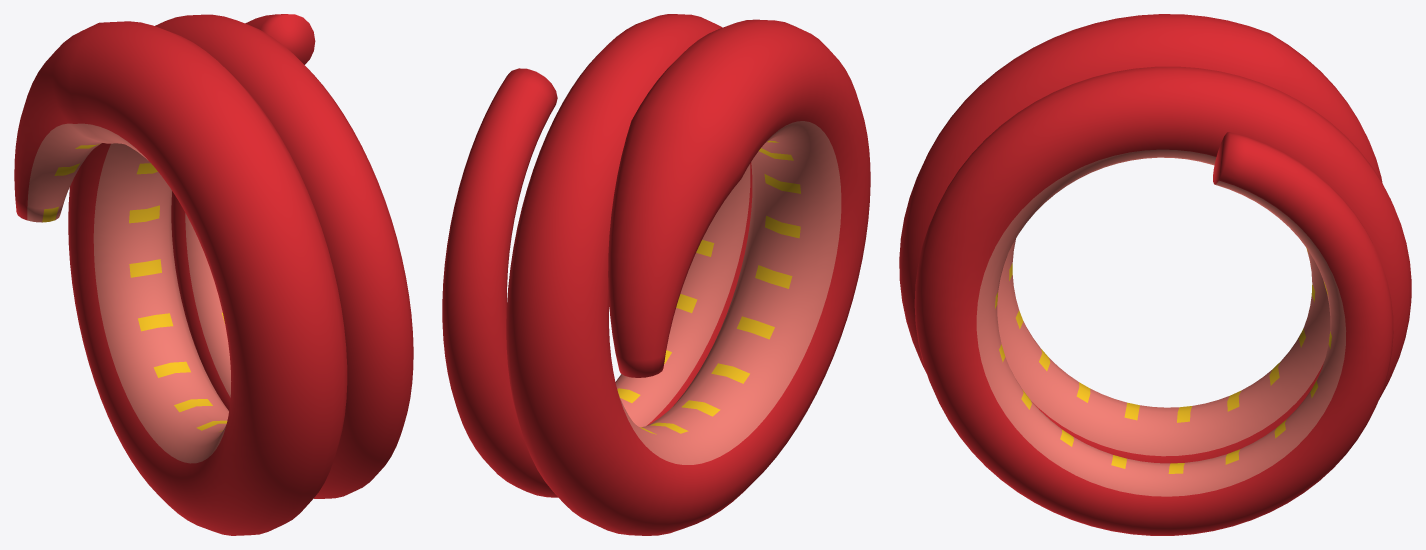
The model's file is kraken-coil.glb.
The picture shows the model from 3 angles, left to right: view 1: azimuth 30°, elevation 25°; view 2: azimuth 150°, elevation 25°; view 3: azimuth 270°, elevation 25°; orthographic projection. The views are drawn at different scales.
Visible parts, largest first — view 1: kr_coil; view 2: kr_coil; view 3: kr_coil.
Boxes of the visible parts, box(x1,y1,x2,y2) form: kr_coil: box(14, 14, 413, 535); kr_coil: box(442, 14, 870, 535); kr_coil: box(899, 14, 1411, 535).
Bounding box in the file's own units: 1.34 × 2.55 × 2.52.
